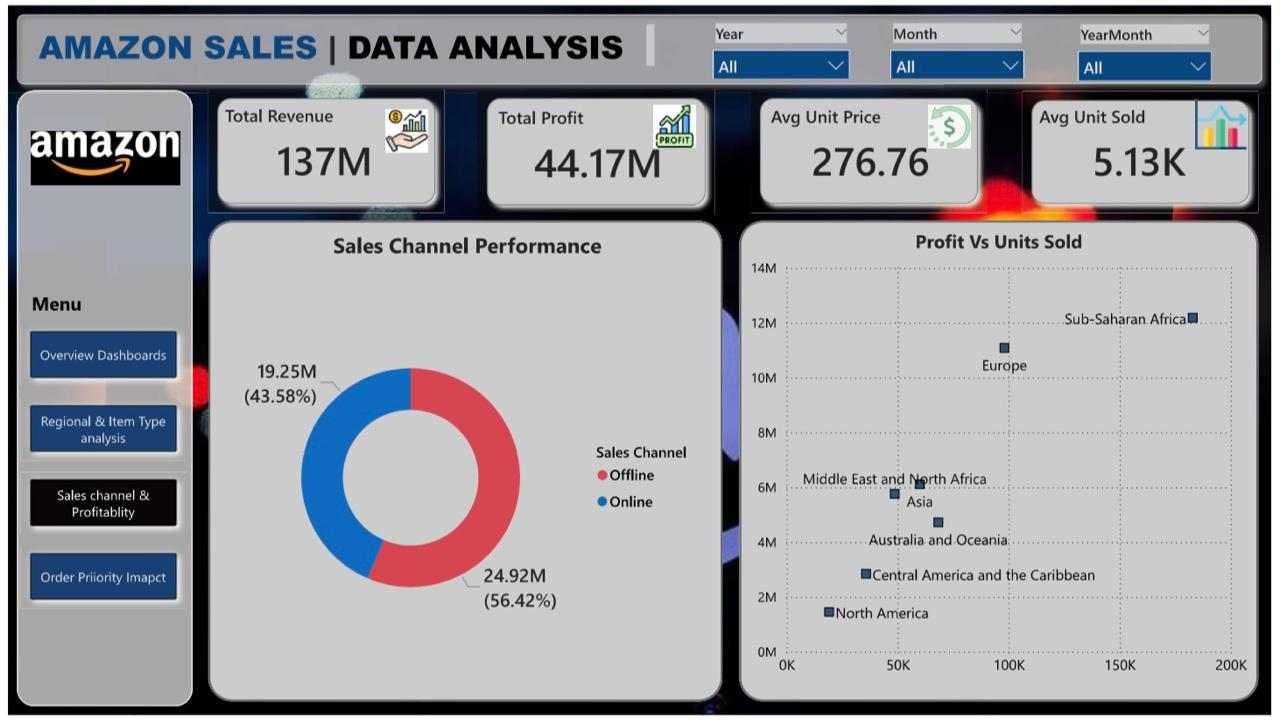

This screenshot's page, from the dashboard's own definition file:
{"tool":"powerbi","page":{"name":"Sales channel & Profitablity","canvas":[1280,720],"ordinal":2},"visuals":[{"type":"shape","box":[0,0,1279.8,89.3],"z":0},{"type":"shape","box":[8.5,86.5,178.6,625],"z":1000},{"type":"shape","box":[202.7,85.5,239.5,124.7],"z":2000},{"type":"shape","box":[476.2,85.5,239.5,126.1],"z":3000},{"type":"shape","box":[752.6,85.5,239.5,124.7],"z":4000},{"type":"shape","box":[1027.6,86.9,239.5,123.3],"z":5000},{"type":"card","title":"Total Revenue","fields":{"Values":["Sum(Amazon Sales Records for internship projects 2.Total Revenue)"]},"box":[214.8,99,212.6,96.4],"z":6000},{"type":"card","title":"Total Profit","fields":{"Values":["Sum(Amazon Sales Records for internship projects 2.Total Profit)"]},"box":[491.8,100.6,212.6,96.4],"z":7000},{"type":"card","title":"Avg Unit Price","fields":{"Values":["Avg(Amazon Sales Records for internship projects 2.Unit Price)"]},"box":[767.6,100.5,212.6,95],"z":8000},{"type":"card","title":"Avg Unit Sold","fields":{"Values":["Avg(Amazon Sales Records for internship projects 2.Units Sold)"]},"box":[1039.7,100.5,212.6,95],"z":9000},{"type":"shape","box":[202.7,218.3,521.6,487.6],"z":10000},{"type":"textbox","box":[25.5,14.2,635,60.9],"z":11000},{"type":"image","box":[18.4,95,161.6,119.1],"z":12000},{"type":"slicer","fields":{"Values":["Amazon Sales Records for internship projects 2.Year"]},"box":[704.3,12.9,158.6,61.4],"z":13000},{"type":"slicer","fields":{"Values":["Amazon Sales Records for internship projects 2.Month"]},"box":[884.3,12.9,155.7,61.4],"z":14000},{"type":"slicer","fields":{"Values":["Amazon Sales Records for internship projects 2.YearMonth"]},"box":[1074.3,14.3,155.7,61.4],"z":15000},{"type":"shape","box":[741.3,218.3,525.8,487.6],"z":16000},{"type":"donutChart","title":"Sales Channel Performance","fields":{"Category":["Amazon Sales Records for internship projects 2.Sales Channel"],"Y":["Sum(Amazon Sales Records for internship projects 2.Total Profit)"]},"box":[215.4,228.2,500.3,477.6],"z":17000},{"type":"scatterChart","title":"Profit Vs Units Sold ","fields":{"X":["Sum(Amazon Sales Records for internship projects 2.Units Sold)"],"Y":["Sum(Amazon Sales Records for internship projects 2.Total Profit)"],"Category":["Amazon Sales Records for internship projects 2.Region"]},"box":[747.1,225.7,514.3,462.9],"z":18000},{"type":"pageNavigator","box":[12.9,321.4,167.1,291.4],"z":19000},{"type":"textbox","box":[18.6,284.3,168.6,37.1],"z":20000},{"type":"image","box":[354.3,100,100,54.3],"z":21000},{"type":"image","box":[620,95.7,110,52.9],"z":22000},{"type":"image","box":[914.3,95.7,78.6,54.3],"z":23000},{"type":"image","box":[1195.7,88.6,65.7,62.9],"z":24000}]}

Visuals, with their boxes in screenshot pixels (x1, y1, x2, y2), scaled from the page's 1280x720 canvas onto the 1280x724 screenshot:
shape: {"x1": 0, "y1": 0, "x2": 1279, "y2": 90}
shape: {"x1": 8, "y1": 87, "x2": 187, "y2": 715}
shape: {"x1": 203, "y1": 86, "x2": 442, "y2": 211}
shape: {"x1": 476, "y1": 86, "x2": 716, "y2": 213}
shape: {"x1": 753, "y1": 86, "x2": 992, "y2": 211}
shape: {"x1": 1028, "y1": 87, "x2": 1267, "y2": 211}
"Total Revenue" card: {"x1": 215, "y1": 100, "x2": 427, "y2": 196}
"Total Profit" card: {"x1": 492, "y1": 101, "x2": 704, "y2": 198}
"Avg Unit Price" card: {"x1": 768, "y1": 101, "x2": 980, "y2": 197}
"Avg Unit Sold" card: {"x1": 1040, "y1": 101, "x2": 1252, "y2": 197}
shape: {"x1": 203, "y1": 220, "x2": 724, "y2": 710}
textbox: {"x1": 26, "y1": 14, "x2": 660, "y2": 76}
image: {"x1": 18, "y1": 96, "x2": 180, "y2": 215}
slicer - Amazon Sales Records for internship projects 2.Year: {"x1": 704, "y1": 13, "x2": 863, "y2": 75}
slicer - Amazon Sales Records for internship projects 2.Month: {"x1": 884, "y1": 13, "x2": 1040, "y2": 75}
slicer - Amazon Sales Records for internship projects 2.YearMonth: {"x1": 1074, "y1": 14, "x2": 1230, "y2": 76}
shape: {"x1": 741, "y1": 220, "x2": 1267, "y2": 710}
"Sales Channel Performance" donutChart: {"x1": 215, "y1": 229, "x2": 716, "y2": 710}
"Profit Vs Units Sold " scatterChart: {"x1": 747, "y1": 227, "x2": 1261, "y2": 692}
pageNavigator: {"x1": 13, "y1": 323, "x2": 180, "y2": 616}
textbox: {"x1": 19, "y1": 286, "x2": 187, "y2": 323}
image: {"x1": 354, "y1": 101, "x2": 454, "y2": 155}
image: {"x1": 620, "y1": 96, "x2": 730, "y2": 149}
image: {"x1": 914, "y1": 96, "x2": 993, "y2": 151}
image: {"x1": 1196, "y1": 89, "x2": 1261, "y2": 152}
